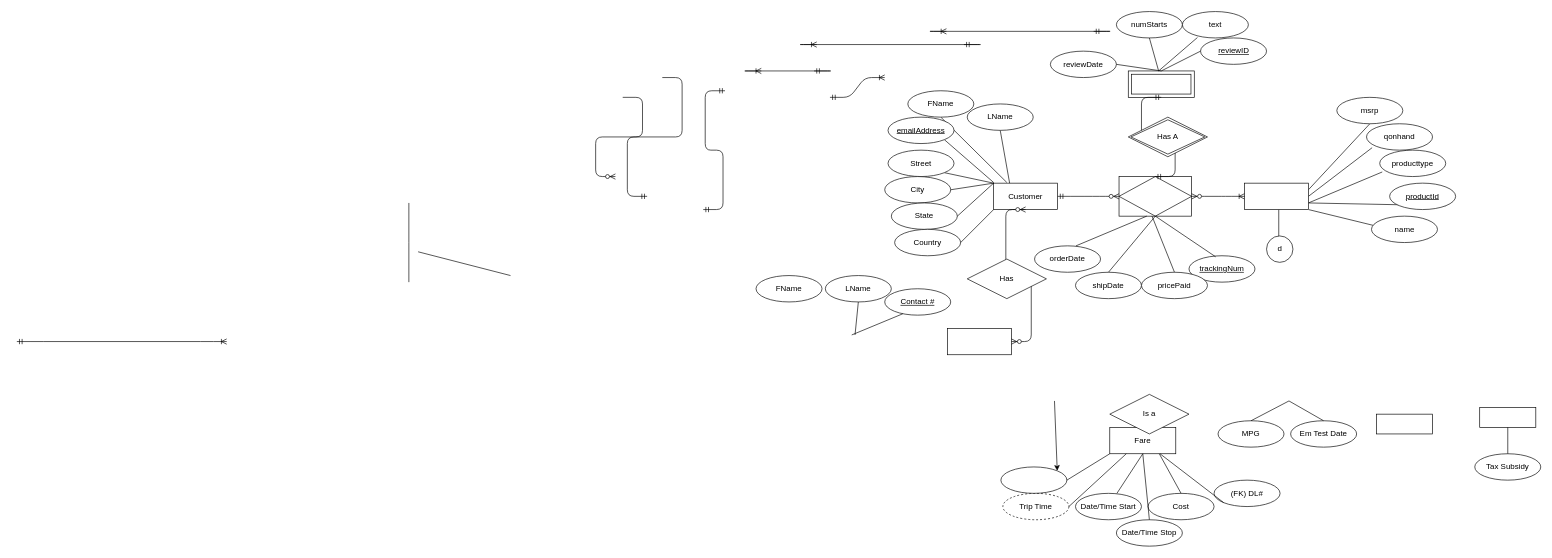
This 1552x558 diagram has some shape labels left out. Each missing label, with the centre of its shape:
Conventional Car: point (1404, 423)
Electric Car: point (1507, 417)
FavoriteProducts: point (979, 341)
ID: point (1033, 479)
Order: point (1155, 196)
Product: point (1276, 196)
Review: point (1161, 83)
